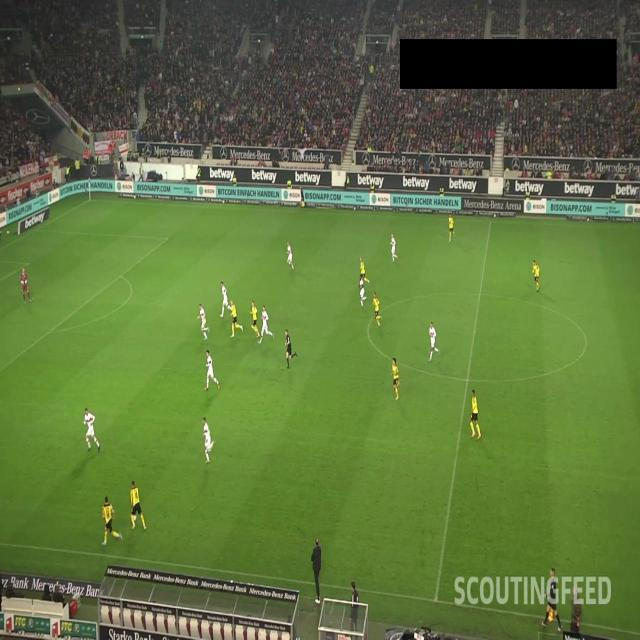arbitro: (284, 330, 297, 368)
football: (133, 512, 137, 522)
goleiro: (14, 264, 32, 303)
jogador: (100, 496, 122, 545), (128, 482, 144, 531), (81, 404, 98, 449), (468, 391, 482, 442), (203, 352, 220, 391), (202, 417, 215, 464), (228, 302, 242, 336), (427, 321, 439, 360), (259, 307, 273, 339), (391, 358, 400, 400), (249, 302, 260, 336), (372, 292, 382, 326), (199, 307, 209, 341), (220, 282, 230, 315), (532, 260, 540, 292), (286, 242, 295, 270), (390, 235, 398, 263), (359, 257, 367, 285), (359, 282, 367, 308), (448, 216, 454, 241)
